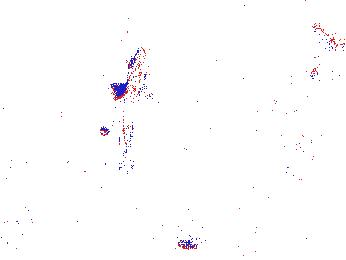X-ray fish: (111, 47, 150, 170)
